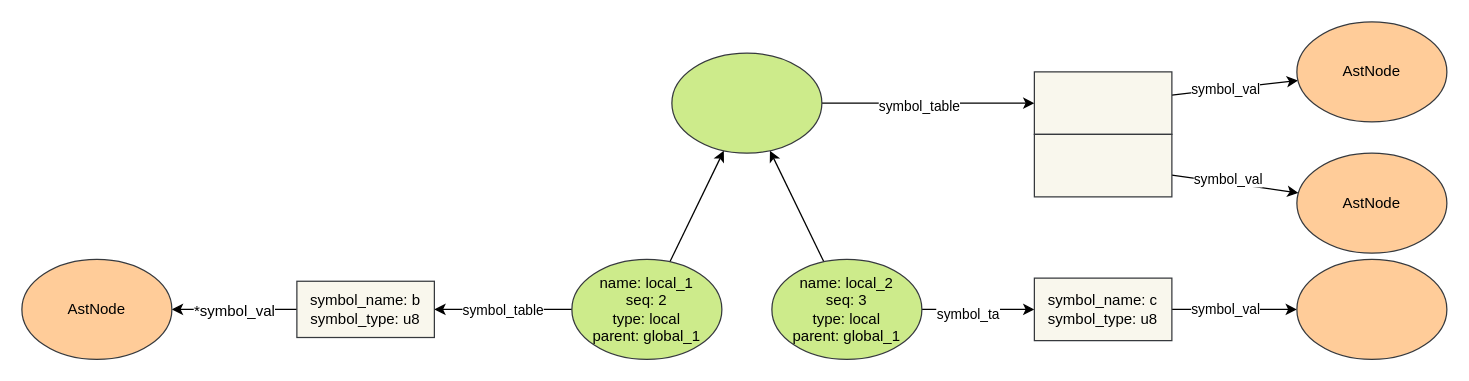
This 1469x381 diagram has some shape labels left out. The centre of each missing label's shape, as x and y in pixels:
name: global_1 seq: 1 type: gloable parent: null: pixel 746 102
null: pixel 1371 308
symbol_name: a symbol_type: u8: pixel 1102 102
symbol_name: d symbol_type: u8: pixel 1102 165
